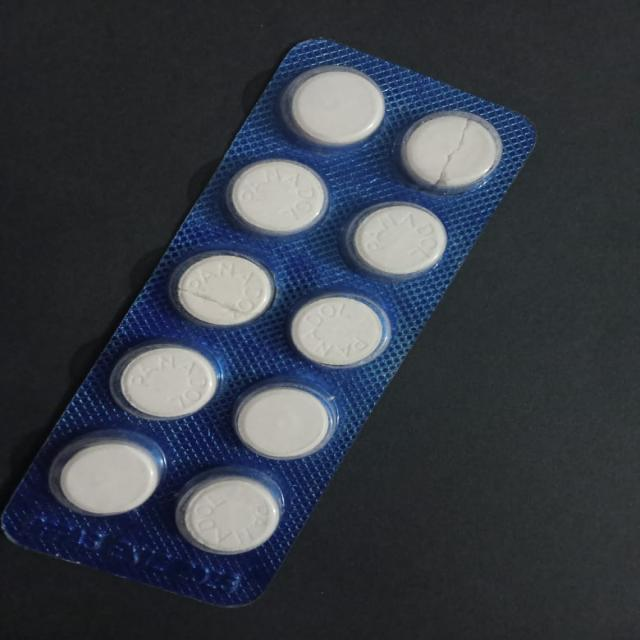defect: (169, 247, 280, 332), (398, 110, 507, 196)
